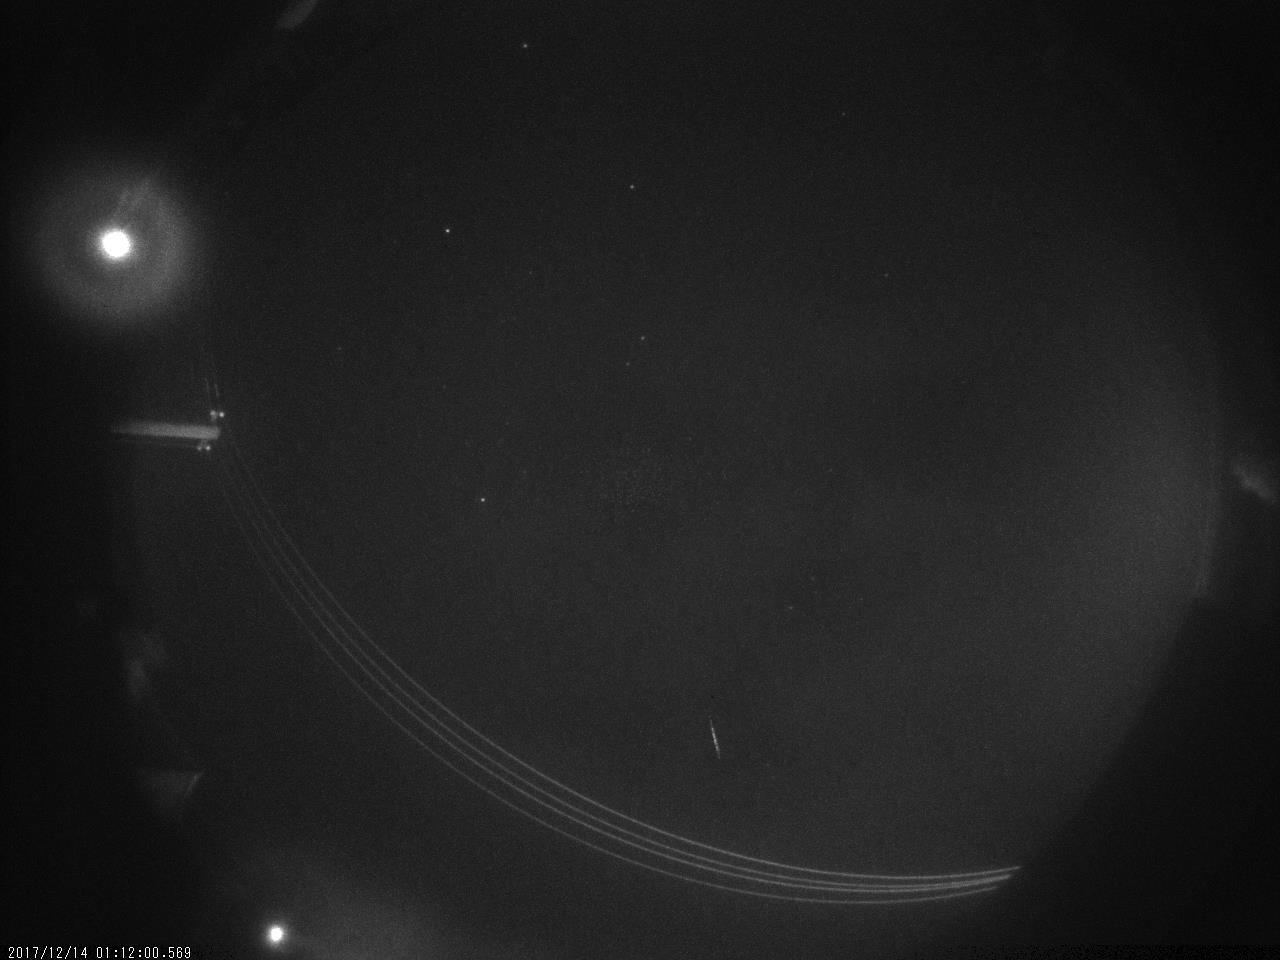Meteor: (703, 713, 727, 765)
